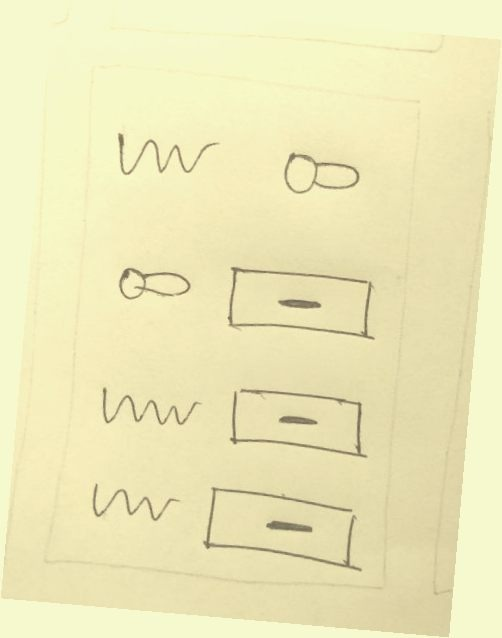button: (198, 480, 378, 576), (219, 259, 391, 348), (219, 380, 380, 469)
switch: (277, 143, 368, 214), (106, 257, 197, 311)
text: (107, 125, 224, 188), (91, 378, 205, 439), (82, 473, 184, 532)
